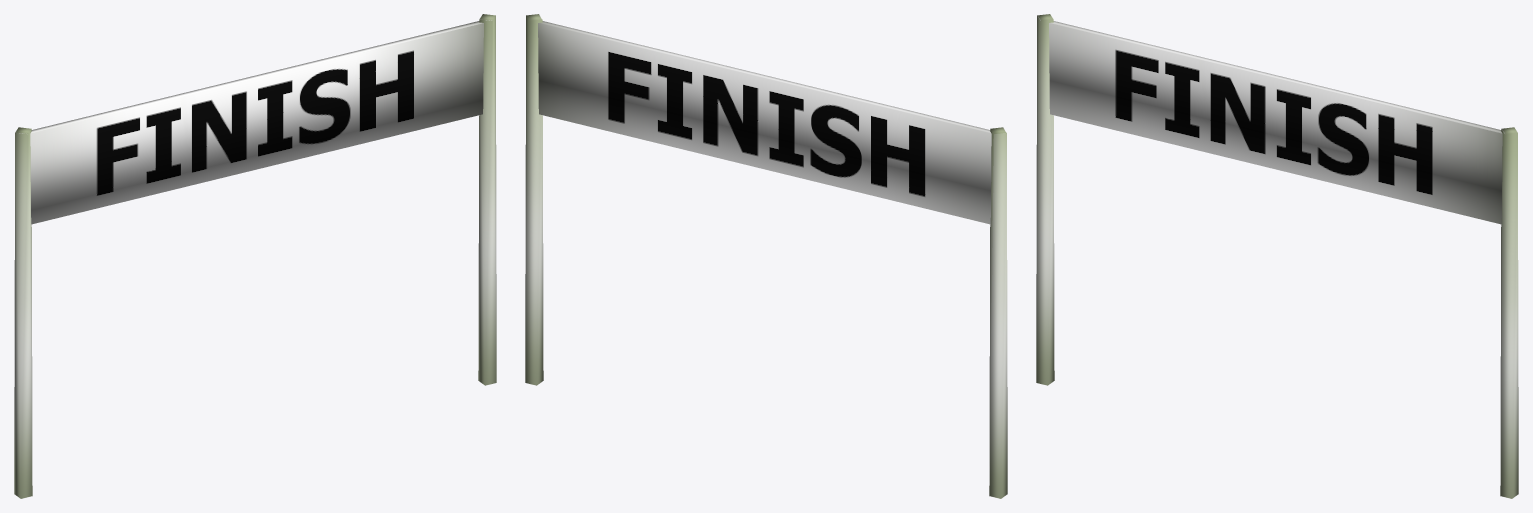
Rendered from finishline.fbx.
The picture shows the model from 3 angles, left to right: view 1: azimuth 30°, elevation 25°; view 2: azimuth 150°, elevation 25°; view 3: azimuth 330°, elevation 25°; orthographic projection.
Parts seen in each view (by area): view 1: Cube.001; view 2: Cube.001; view 3: Cube.001.
Boxes of the visible parts, box(x1,y1,x2,y2) form: Cube.001: box(14, 14, 496, 498); Cube.001: box(525, 14, 1007, 498); Cube.001: box(1036, 14, 1518, 498).
Size of the model in its own units: 828 by 600 by 28.28.
1 material, 1 textured.
